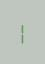one: (19, 19, 23, 44)
